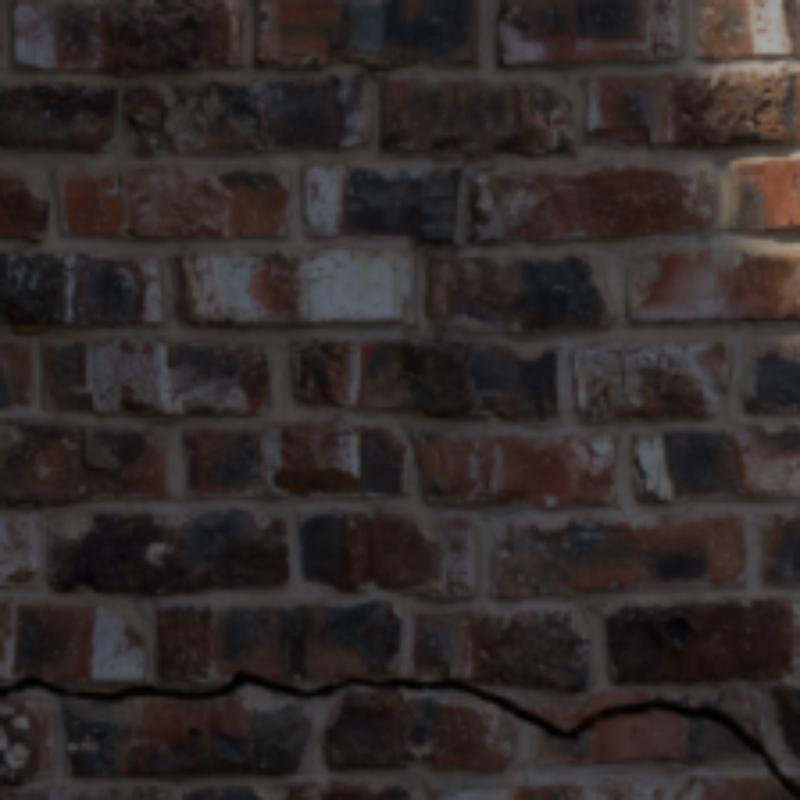pothole: (0, 671, 796, 796)
